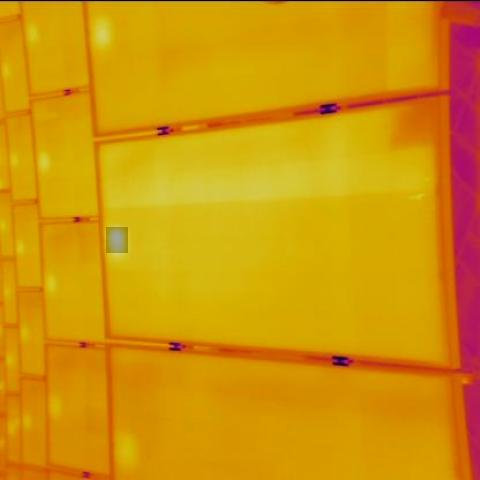fault: (106, 227, 128, 253)
